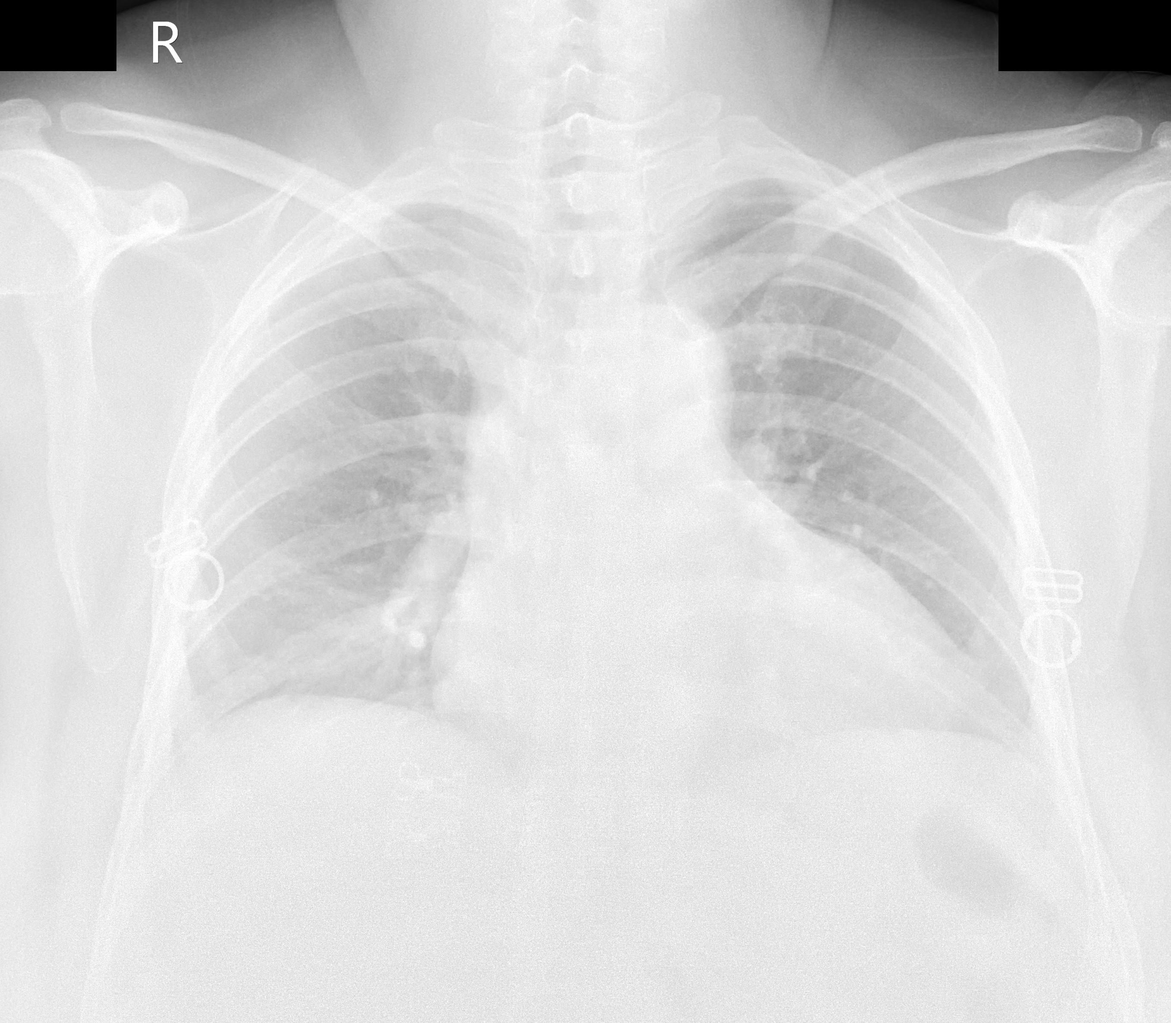Cardiomegaly: (434, 574, 982, 738)
